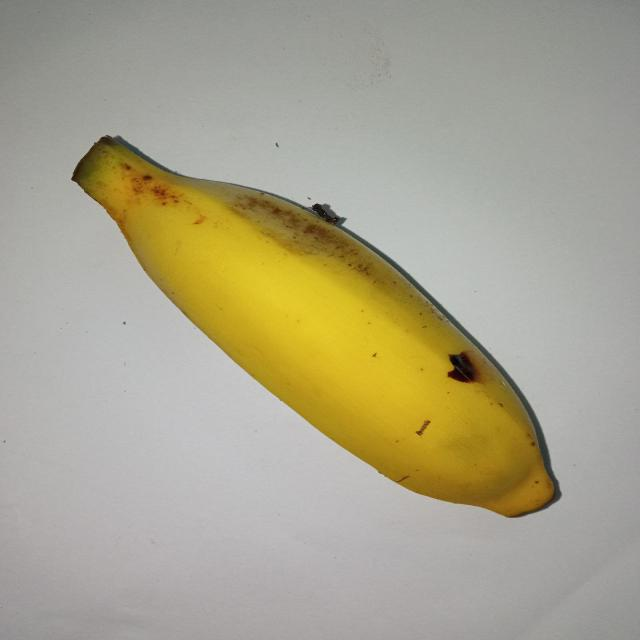fresh_banana: (73, 136, 545, 515)
